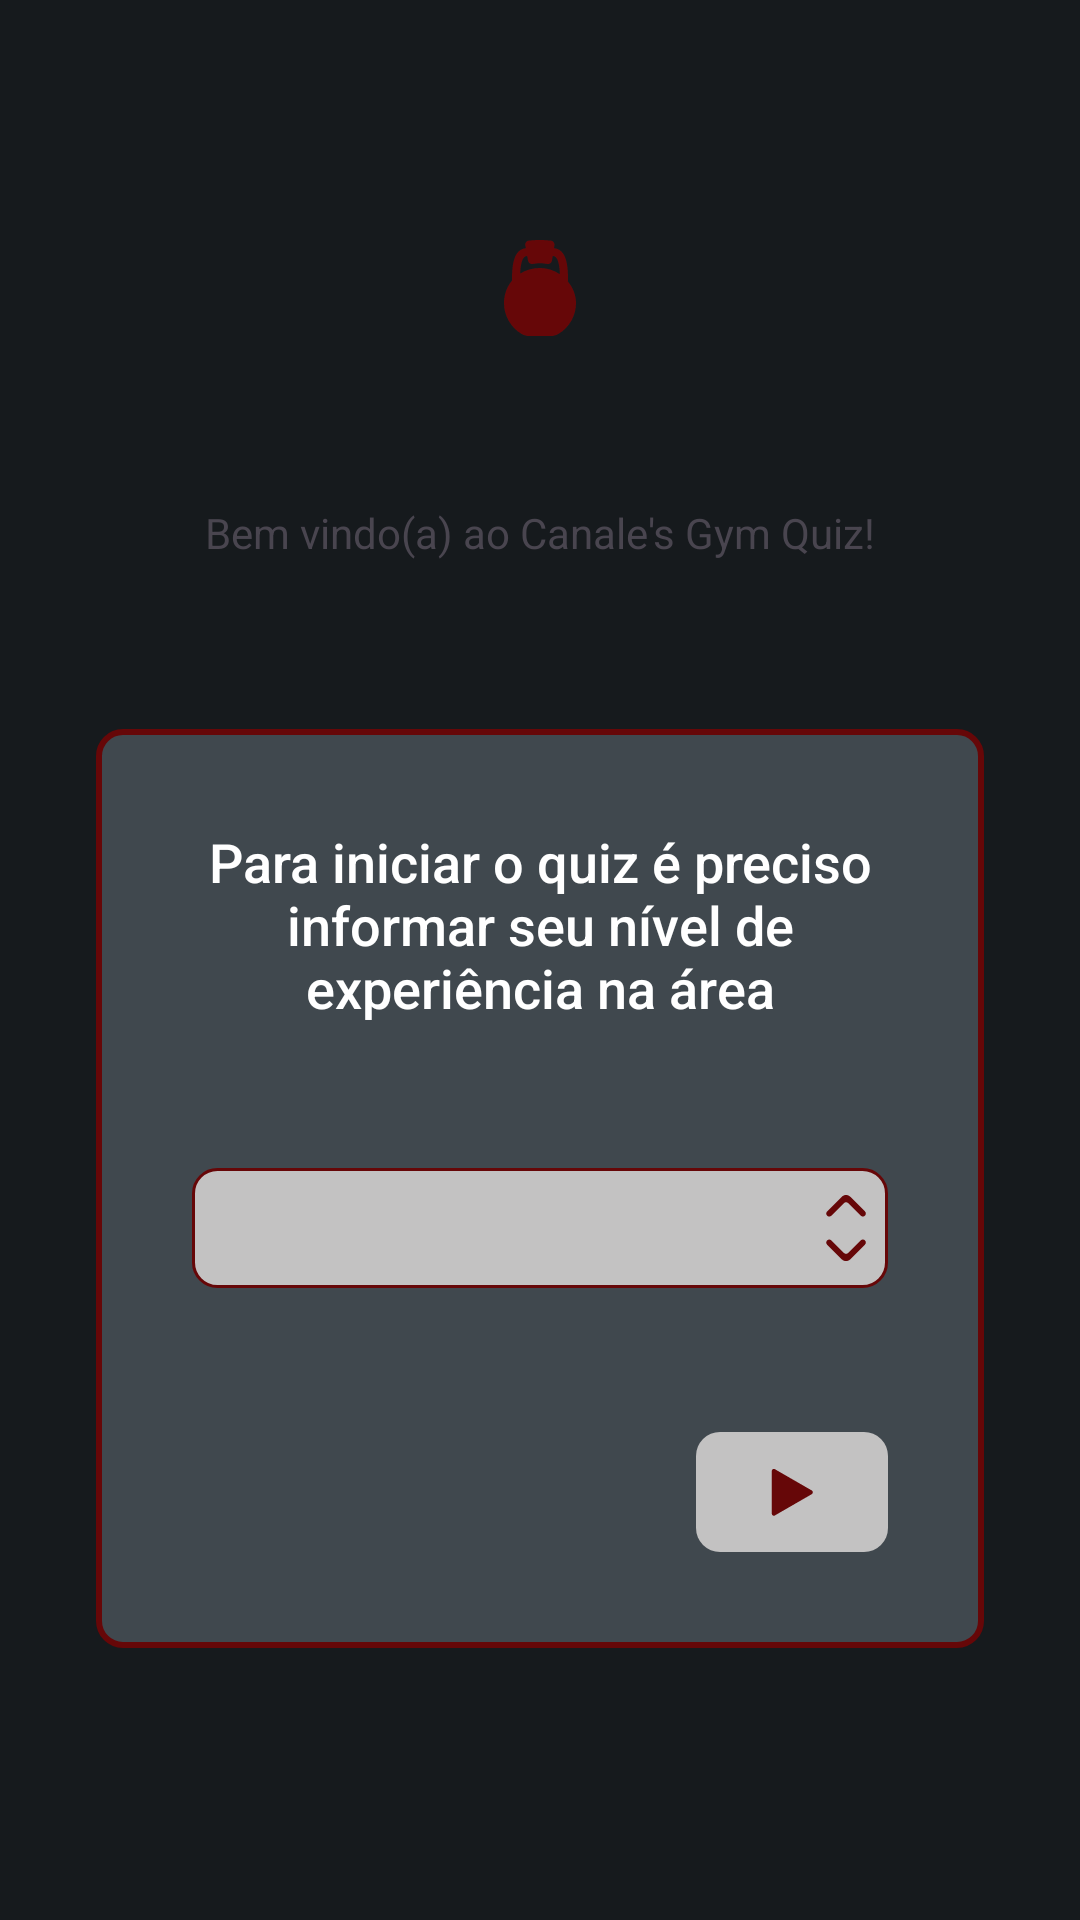

Icons on this 1080px x 1920px Android screen, each with the point to tap as point (x, y):
dumbbell icon description: point (540, 288)
login start button description: point (792, 1492)
